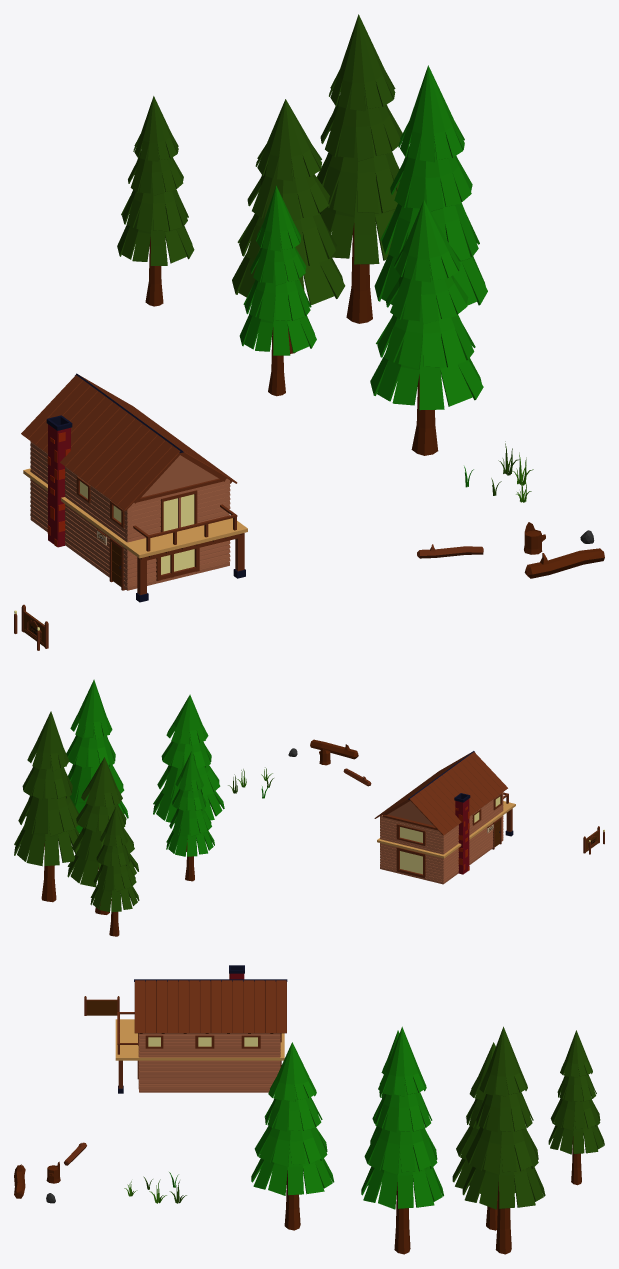
File: CABINOutside.fbx
3 renders of one model, top to bottom at view 1: azimuth 30°, elevation 25°; view 2: azimuth 150°, elevation 25°; view 3: azimuth 270°, elevation 25°, orthographic. The views are drawn at different scales.
Parts seen in each view (by area): view 1: cabinlowpoly.018, cabinlowpoly.025, cabinlowpoly.552, cabinlowpoly.041, cabinlowpoly.033, cabinlowpoly.037, cabinlowpoly.559, cabinlowpoly.035, cabinlowpoly.055, cabinlowpoly.016, cabinlowpoly.074, cabinlowpoly.008 (+3 smaller); view 2: cabinlowpoly.025, cabinlowpoly.018, cabinlowpoly.041, cabinlowpoly.033, cabinlowpoly.552, cabinlowpoly.037, cabinlowpoly.559, cabinlowpoly.057, cabinlowpoly.035, cabinlowpoly.074, cabinlowpoly.016, cabinlowpoly.010 (+3 smaller); view 3: cabinlowpoly.025, cabinlowpoly.552, cabinlowpoly.101, cabinlowpoly.018, cabinlowpoly.060, cabinlowpoly.037, cabinlowpoly.016, cabinlowpoly.041, cabinlowpoly.022, cabinlowpoly.490.
Part boxes in pixels (x1,y1,x2,y2): cabinlowpoly.018: [370, 200, 483, 455]; cabinlowpoly.025: [317, 14, 402, 323]; cabinlowpoly.552: [374, 65, 487, 305]; cabinlowpoly.041: [232, 99, 345, 305]; cabinlowpoly.033: [21, 375, 180, 510]; cabinlowpoly.037: [117, 96, 194, 306]; cabinlowpoly.559: [239, 185, 316, 396]; cabinlowpoly.035: [30, 441, 131, 590]; cabinlowpoly.055: [125, 478, 229, 590]; cabinlowpoly.016: [23, 468, 247, 558]; cabinlowpoly.074: [47, 424, 70, 547]; cabinlowpoly.008: [142, 455, 218, 497]; cabinlowpoly.025: [14, 711, 80, 902]; cabinlowpoly.018: [153, 694, 224, 851]; cabinlowpoly.041: [67, 757, 138, 887]; cabinlowpoly.033: [410, 752, 507, 835]; cabinlowpoly.552: [66, 679, 128, 833]; cabinlowpoly.037: [90, 806, 139, 936]; cabinlowpoly.559: [166, 751, 214, 881]; cabinlowpoly.057: [380, 815, 444, 884]; cabinlowpoly.035: [441, 792, 503, 884]; cabinlowpoly.074: [455, 799, 469, 874]; cabinlowpoly.016: [377, 801, 515, 858]; cabinlowpoly.010: [388, 801, 433, 825]; cabinlowpoly.025: [462, 1026, 545, 1254]; cabinlowpoly.552: [361, 1026, 443, 1209]; cabinlowpoly.101: [134, 980, 286, 1033]; cabinlowpoly.018: [251, 1042, 334, 1230]; cabinlowpoly.060: [139, 1033, 279, 1092]; cabinlowpoly.037: [548, 1030, 604, 1185]; cabinlowpoly.016: [115, 1019, 284, 1060]; cabinlowpoly.041: [452, 1042, 515, 1193]; cabinlowpoly.022: [394, 1182, 410, 1254]; cabinlowpoly.490: [86, 1000, 117, 1015].
Bounding box in the file's own units: 801 × 362 × 853.
